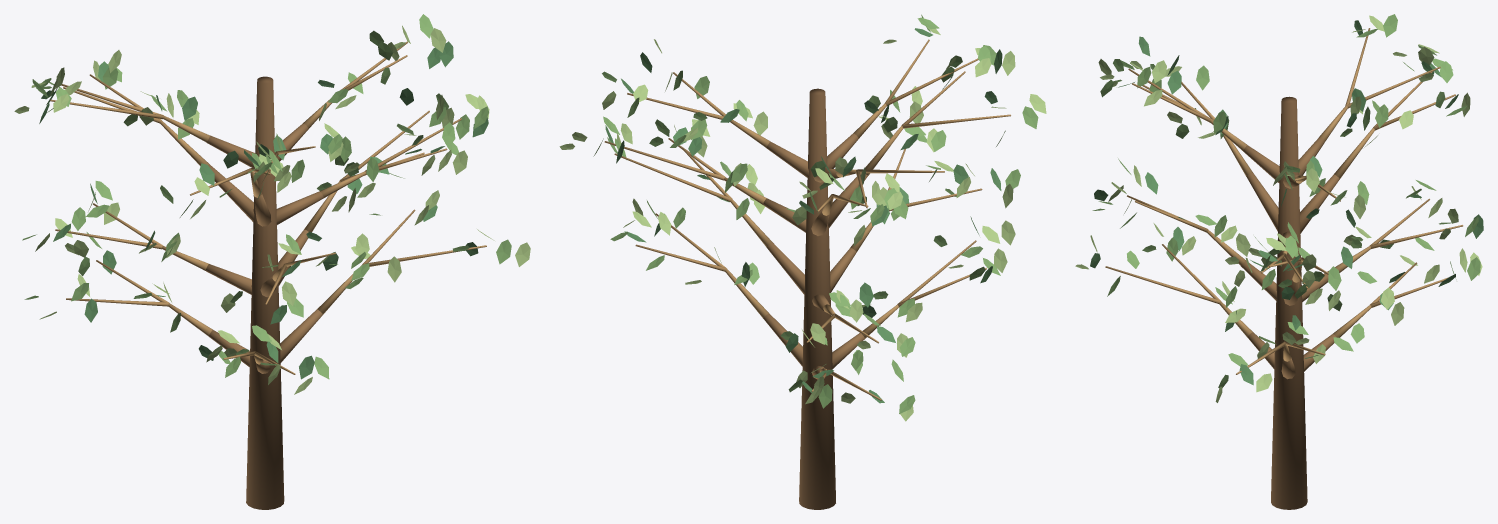
The model's file is leafy_sapling_a.glb.
3 renders of one model, left to right at view 1: azimuth 30°, elevation 25°; view 2: azimuth 150°, elevation 25°; view 3: azimuth 270°, elevation 25°, orthographic. The views are drawn at different scales.
Parts seen in each view (by area): view 1: leafy_sapling_a_trunk, leafy_sapling_a_branch_2_1_a, leafy_sapling_a_branch_0_0_a, leafy_sapling_a_branch_2_0_a, leafy_sapling_a_branch_1_1_a; view 2: leafy_sapling_a_trunk, leafy_sapling_a_branch_1_0_a, leafy_sapling_a_branch_3_0_a; view 3: leafy_sapling_a_trunk, leafy_sapling_a_branch_2_2_a, leafy_sapling_a_branch_2_1_a, leafy_sapling_a_branch_3_2_a.
Boxes of the visible parts, x1=… form: leafy_sapling_a_trunk: x1=246, y1=76, x2=284, y2=509; leafy_sapling_a_branch_2_1_a: x1=208, y1=164, x2=254, y2=221; leafy_sapling_a_branch_0_0_a: x1=280, y1=309, x2=322, y2=362; leafy_sapling_a_branch_2_0_a: x1=276, y1=191, x2=323, y2=224; leafy_sapling_a_branch_1_1_a: x1=206, y1=264, x2=251, y2=294; leafy_sapling_a_trunk: x1=799, y1=88, x2=835, y2=509; leafy_sapling_a_branch_1_0_a: x1=766, y1=242, x2=804, y2=294; leafy_sapling_a_branch_3_0_a: x1=766, y1=141, x2=808, y2=177; leafy_sapling_a_trunk: x1=1271, y1=96, x2=1307, y2=509; leafy_sapling_a_branch_2_2_a: x1=1246, y1=172, x2=1278, y2=231; leafy_sapling_a_branch_2_1_a: x1=1300, y1=174, x2=1339, y2=233; leafy_sapling_a_branch_3_2_a: x1=1243, y1=145, x2=1280, y2=183.
Bounding box in the file's own units: 1.14 × 1.07 × 0.9516.
